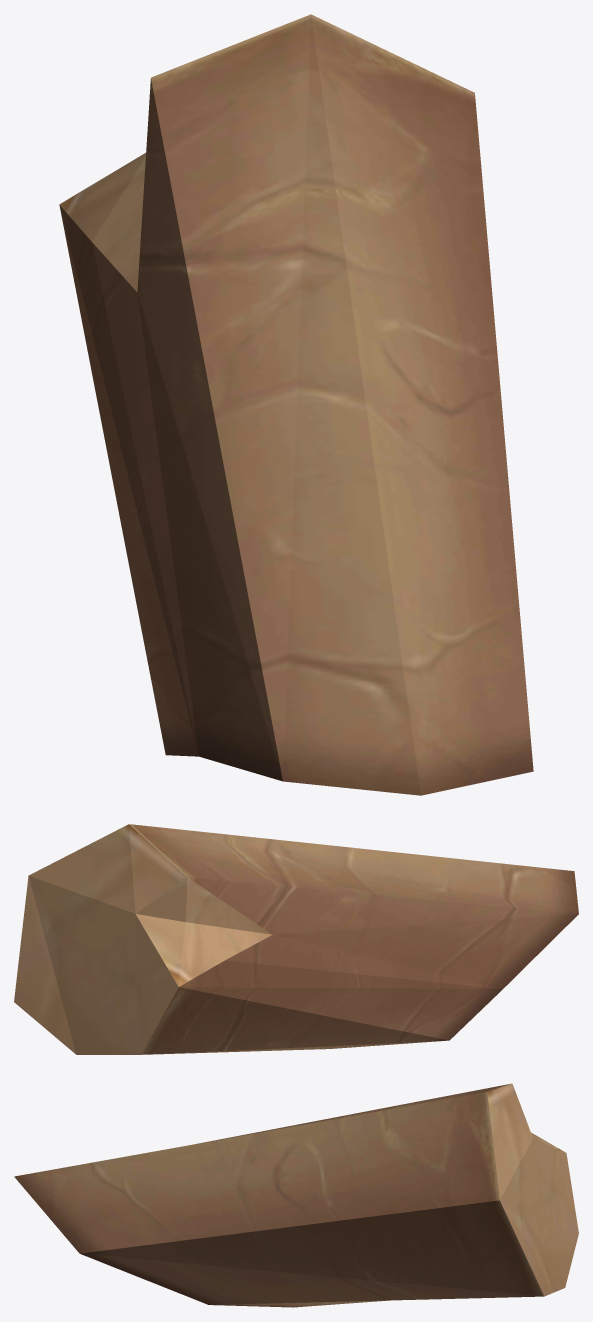
File: caodi_zhuzi_03.fbx
The picture shows the model from 3 angles, top to bottom: view 1: azimuth 30°, elevation 25°; view 2: azimuth 150°, elevation 25°; view 3: azimuth 270°, elevation 25°; orthographic projection. The views are drawn at different scales.
Visible parts, largest first — view 1: caodi_zhuzi_03; view 2: caodi_zhuzi_03; view 3: caodi_zhuzi_03.
Part boxes in pixels (x1,y1,x2,y2): caodi_zhuzi_03: (59,14,533,795); caodi_zhuzi_03: (14,824,578,1054); caodi_zhuzi_03: (14,1083,578,1307).
Size of the model in its own units: 3.13 by 2.54 by 5.
